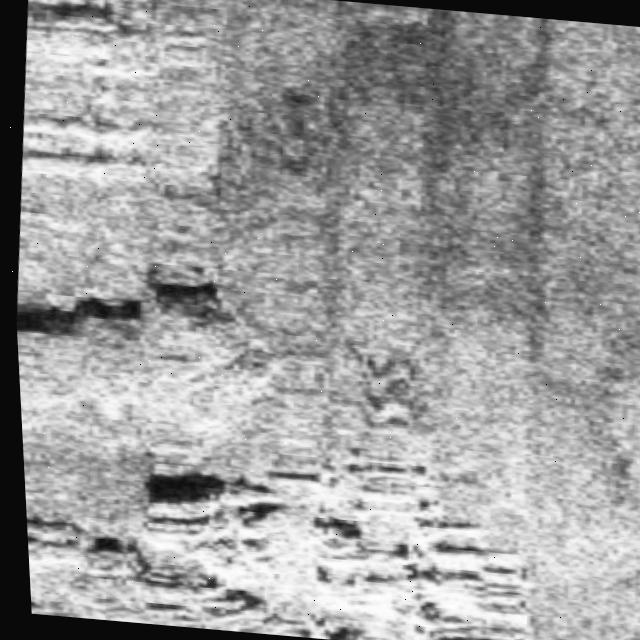bedrock group: (0, 0, 580, 640)
